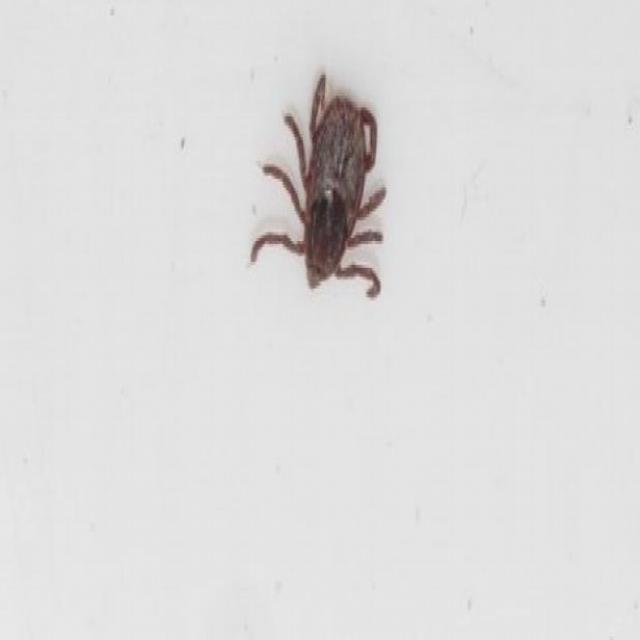Rhipicephalus Sanguineus-F: (250, 72, 387, 297)
